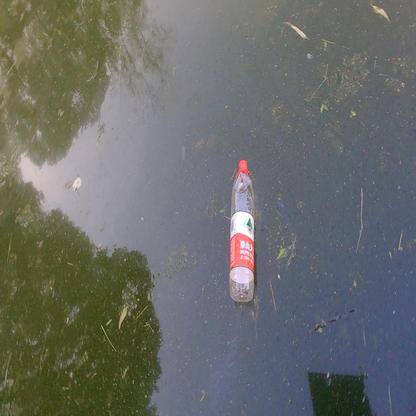plastic bottle: (228, 159, 255, 301)
